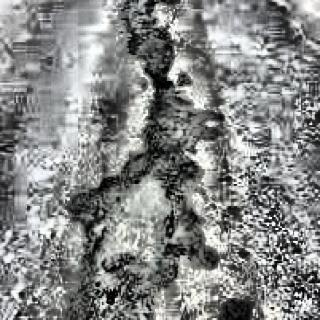pothole: (46, 0, 228, 320)
